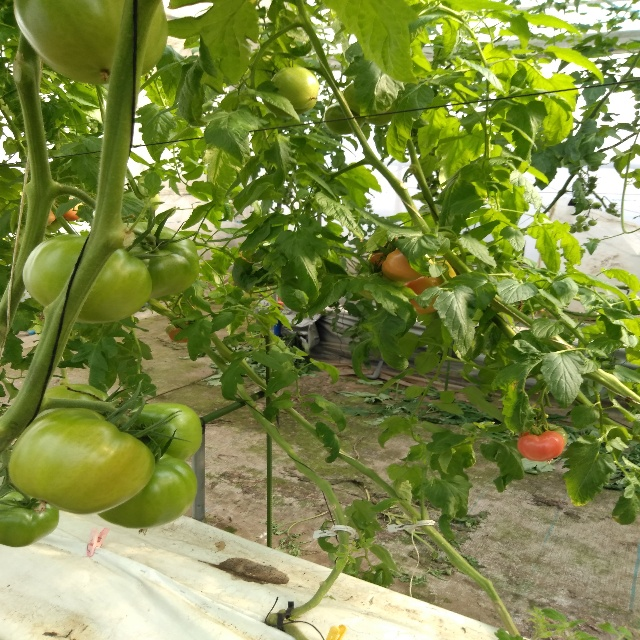b_fully_ripened: (517, 431, 565, 462)
b_green: (7, 406, 155, 516), (13, 0, 170, 85), (23, 234, 154, 323), (97, 450, 199, 529), (120, 222, 199, 298), (126, 402, 204, 461), (0, 488, 59, 548), (271, 66, 319, 109)
b_half_ripened: (381, 247, 433, 282)
